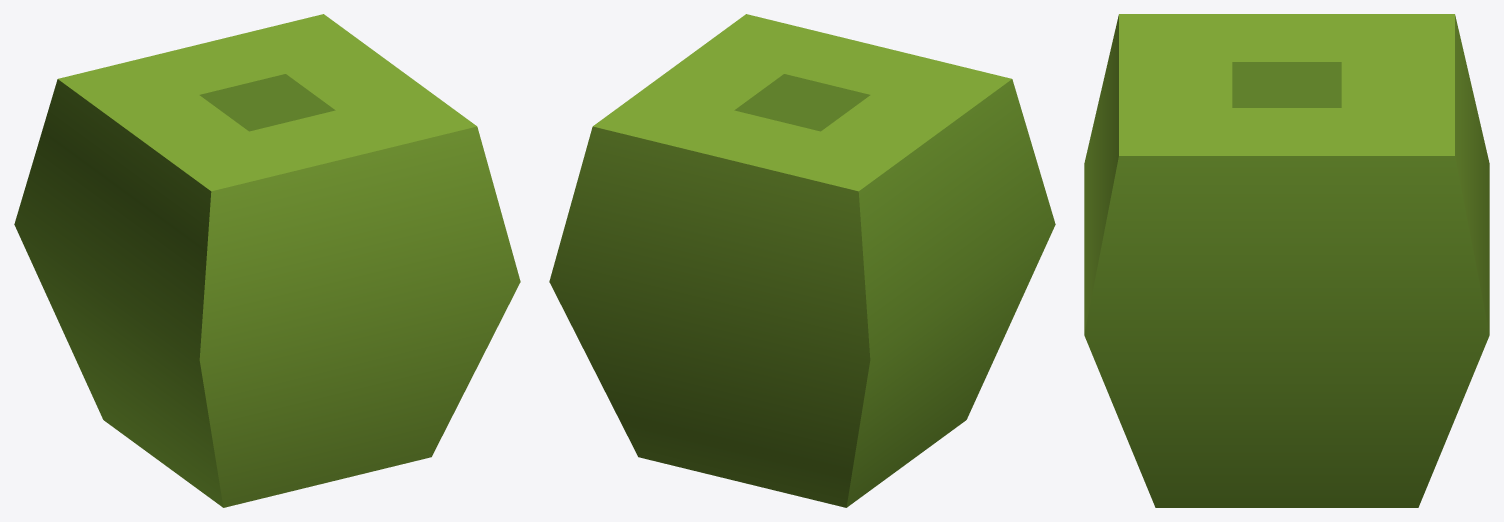
Rendered from SI_Food_Organic_Apple_01.fbx.
3 renders of one model, left to right at view 1: azimuth 30°, elevation 25°; view 2: azimuth 150°, elevation 25°; view 3: azimuth 270°, elevation 25°, orthographic. The views are drawn at different scales.
Parts seen in each view (by area): view 1: SI_Food_Organic_Apple_01; view 2: SI_Food_Organic_Apple_01; view 3: SI_Food_Organic_Apple_01.
Part boxes in pixels (<box>): SI_Food_Organic_Apple_01: <box>14,14,520,507</box>; SI_Food_Organic_Apple_01: <box>549,14,1055,507</box>; SI_Food_Organic_Apple_01: <box>1084,14,1489,507</box>.
Bounding box in the file's own units: 0.327 × 0.327 × 0.327.
